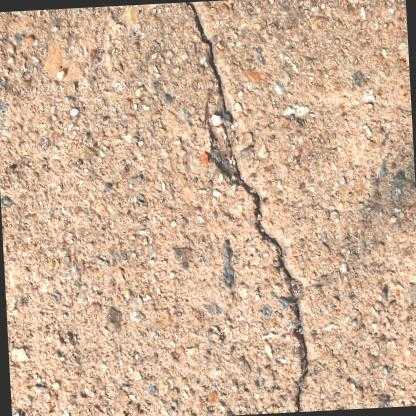crack: (182, 1, 306, 412), (183, 1, 306, 412)
